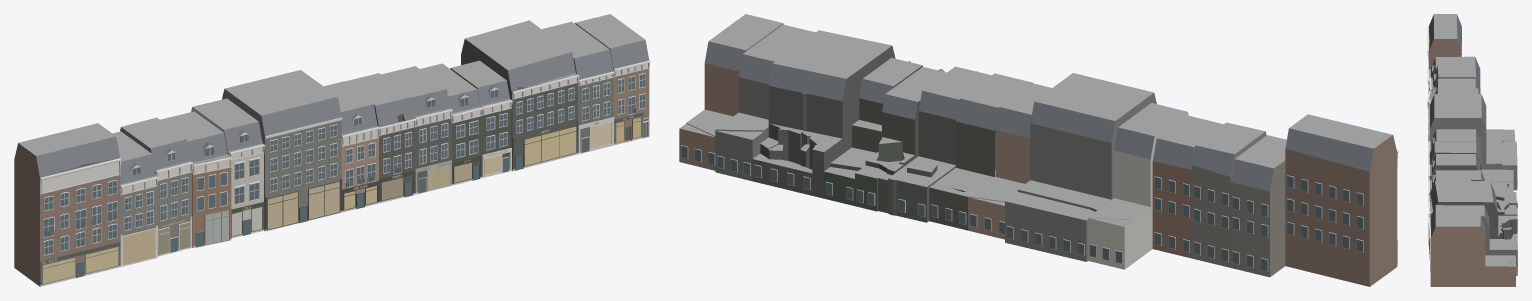
Rendered from chunk-face-hooft-114-142.glb.
3 renders of one model, left to right at view 1: azimuth 30°, elevation 25°; view 2: azimuth 150°, elevation 25°; view 3: azimuth 270°, elevation 25°, orthographic. The views are drawn at different scales.
Visible parts, largest first — view 1: face-hooft-114-142; view 2: face-hooft-114-142; view 3: face-hooft-114-142.
Boxes of the visible parts, left/top/right/bottom form: face-hooft-114-142: left=14, top=14, right=650, bottom=286; face-hooft-114-142: left=679, top=14, right=1398, bottom=286; face-hooft-114-142: left=1427, top=14, right=1517, bottom=286.
Size of the model in its own units: 108 by 21.57 by 21.7.
